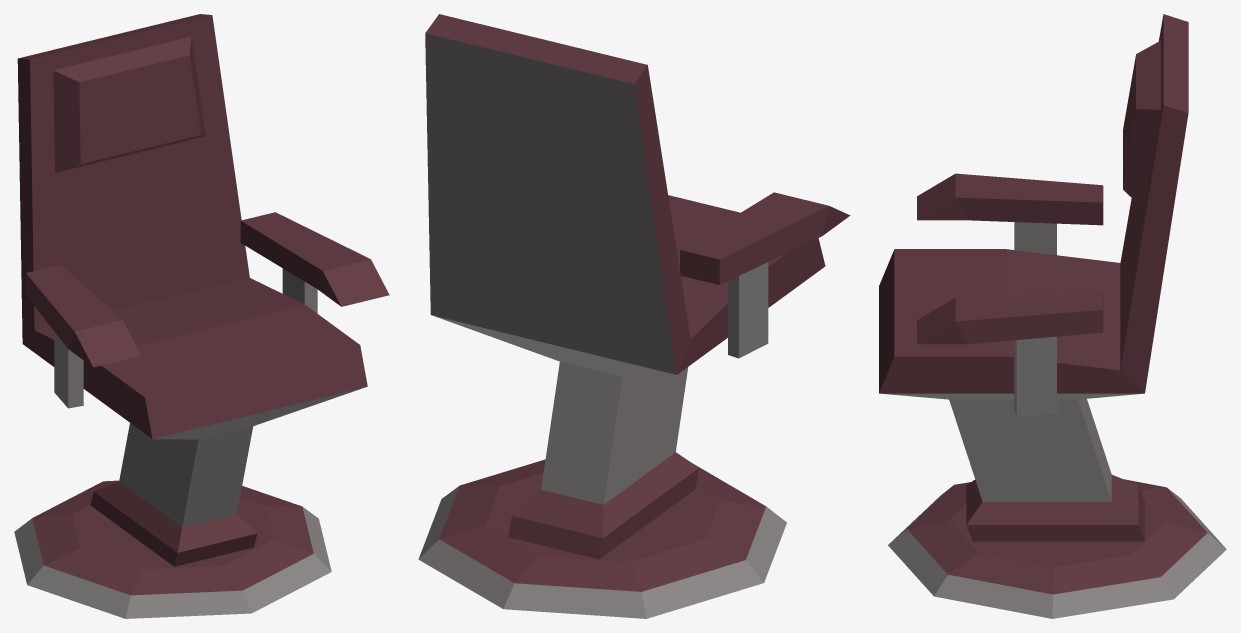
The model's file is scifi-chair-small.fbx.
3 renders of one model, left to right at view 1: azimuth 30°, elevation 25°; view 2: azimuth 150°, elevation 25°; view 3: azimuth 270°, elevation 25°, orthographic. The views are drawn at different scales.
Visible parts, largest first — view 1: scifi-chair-small; view 2: scifi-chair-small; view 3: scifi-chair-small.
Part boxes in pixels (left/top/right/bottom): scifi-chair-small: left=14, top=14, right=389, bottom=618; scifi-chair-small: left=418, top=14, right=850, bottom=618; scifi-chair-small: left=879, top=14, right=1226, bottom=618.
Bounding box in the file's own units: 0.688 × 1.06 × 0.6833.
